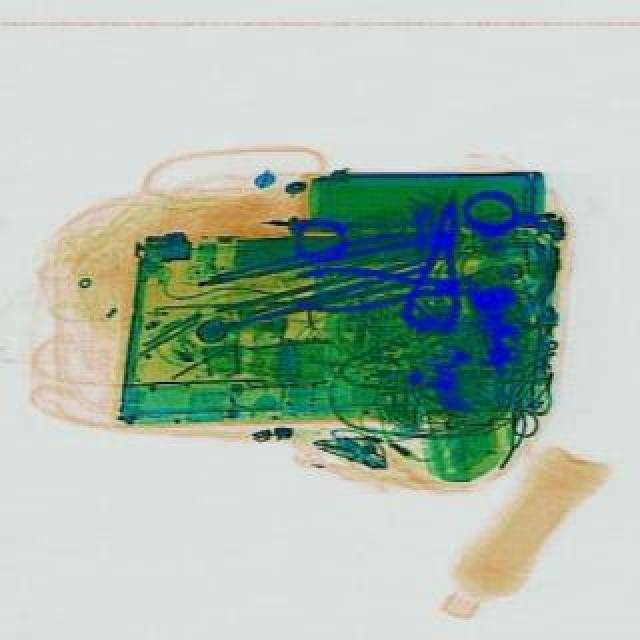wrench: (398, 186, 478, 334), (292, 264, 472, 312)
